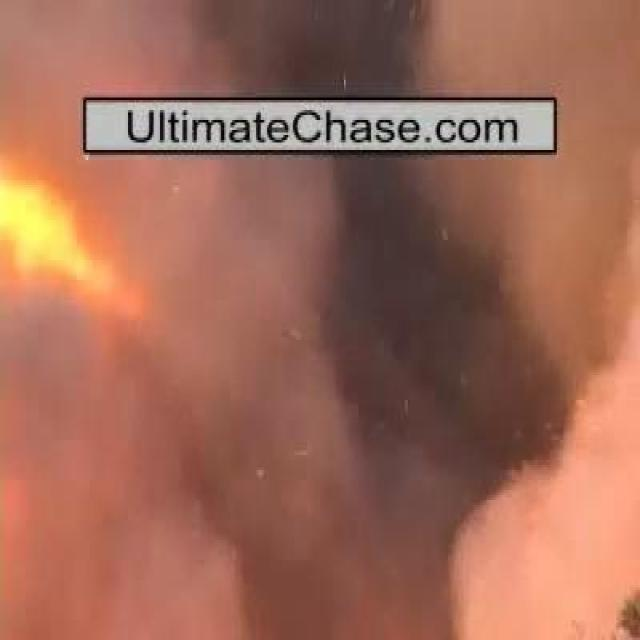Smoke: (89, 155, 556, 550)
